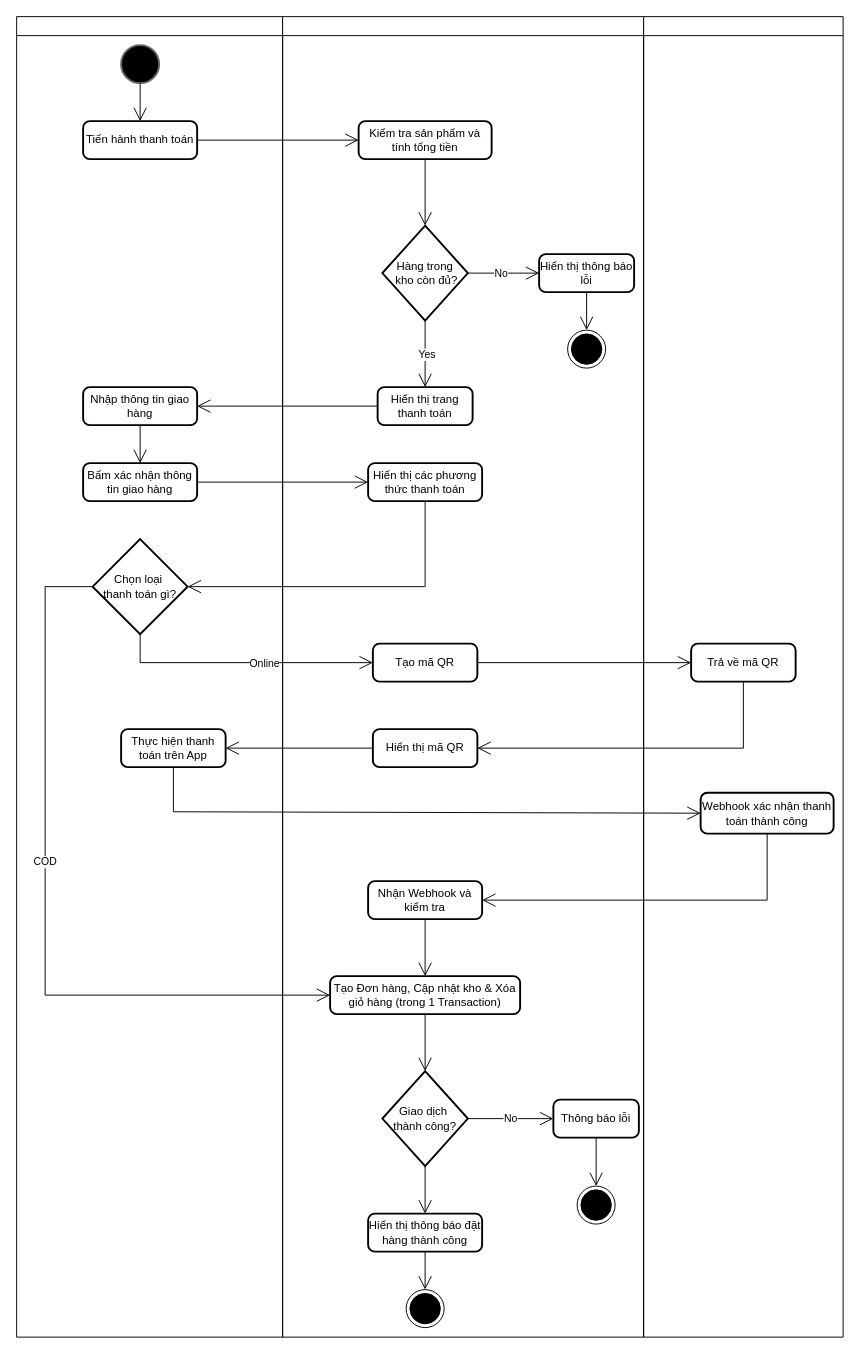
This 860x1354 diagram has some shape labels left out. The centre of each missing label's shape, as x and y in pixels:
Cổng thanh toán: pixel 743 676
Hệ thống: pixel 463 676
Thành viên: pixel 149 676
